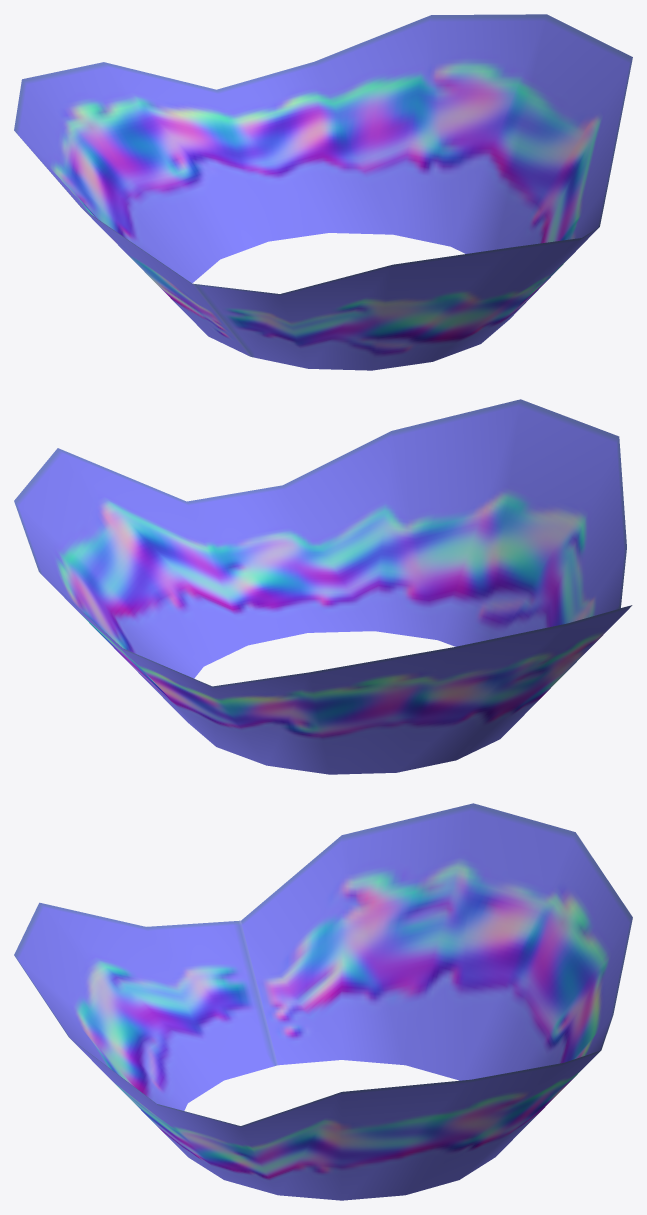
File: p_mesh_watercylinder04.fbx
The picture shows the model from 3 angles, top to bottom: view 1: azimuth 30°, elevation 25°; view 2: azimuth 150°, elevation 25°; view 3: azimuth 270°, elevation 25°; orthographic projection. The views are drawn at different scales.
Parts seen in each view (by area): view 1: p_mesh_water_cylinder04; view 2: p_mesh_water_cylinder04; view 3: p_mesh_water_cylinder04.
Part boxes in pixels (<box>): p_mesh_water_cylinder04: <box>14,14,632,370</box>; p_mesh_water_cylinder04: <box>14,399,632,774</box>; p_mesh_water_cylinder04: <box>14,803,632,1200</box>.
Bounding box in the file's own units: 2.31 × 0.7581 × 2.21.
